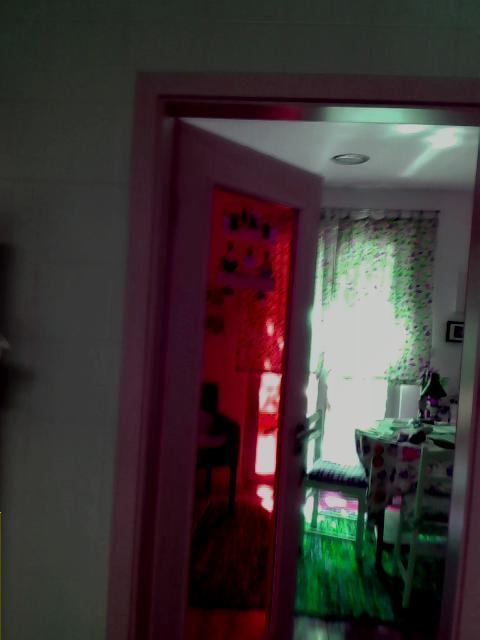semi_door: (102, 68, 479, 639)
